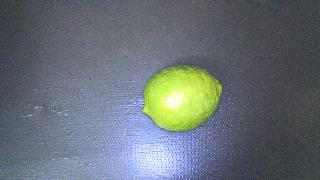EXPORTACION: (143, 65, 222, 131)
